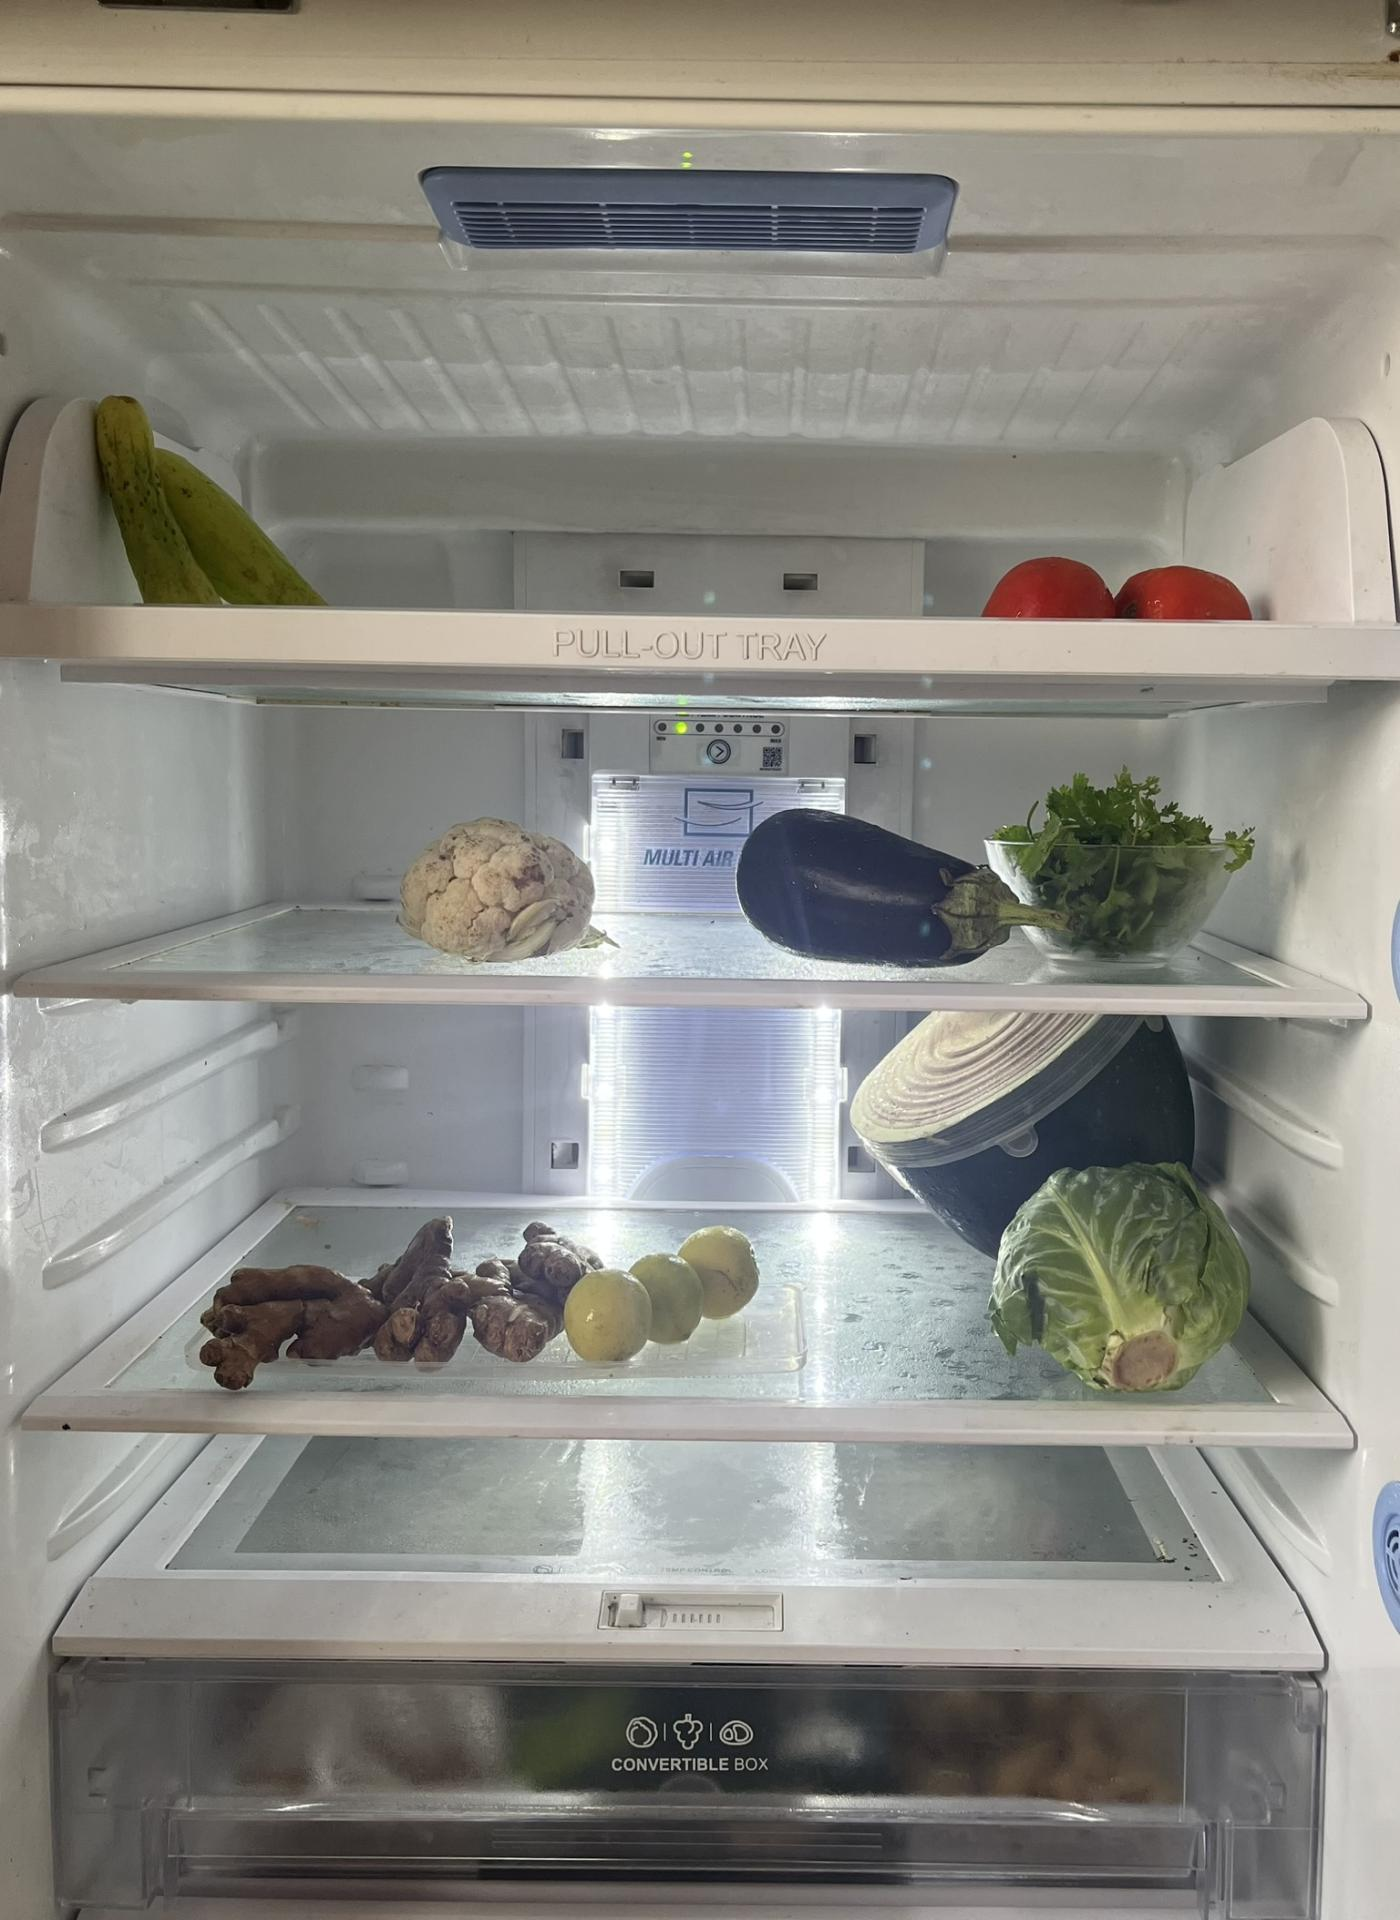brinjal: (729, 803, 1015, 950)
cabbage: (988, 1161, 1251, 1389)
cauliflower: (395, 814, 611, 967)
coriander: (994, 772, 1239, 948)
cucumber: (100, 386, 335, 605)
ginger: (192, 1201, 590, 1383)
lemon: (568, 1218, 760, 1365)
tomato: (984, 552, 1255, 628)
watermelon: (844, 1030, 1196, 1267)
